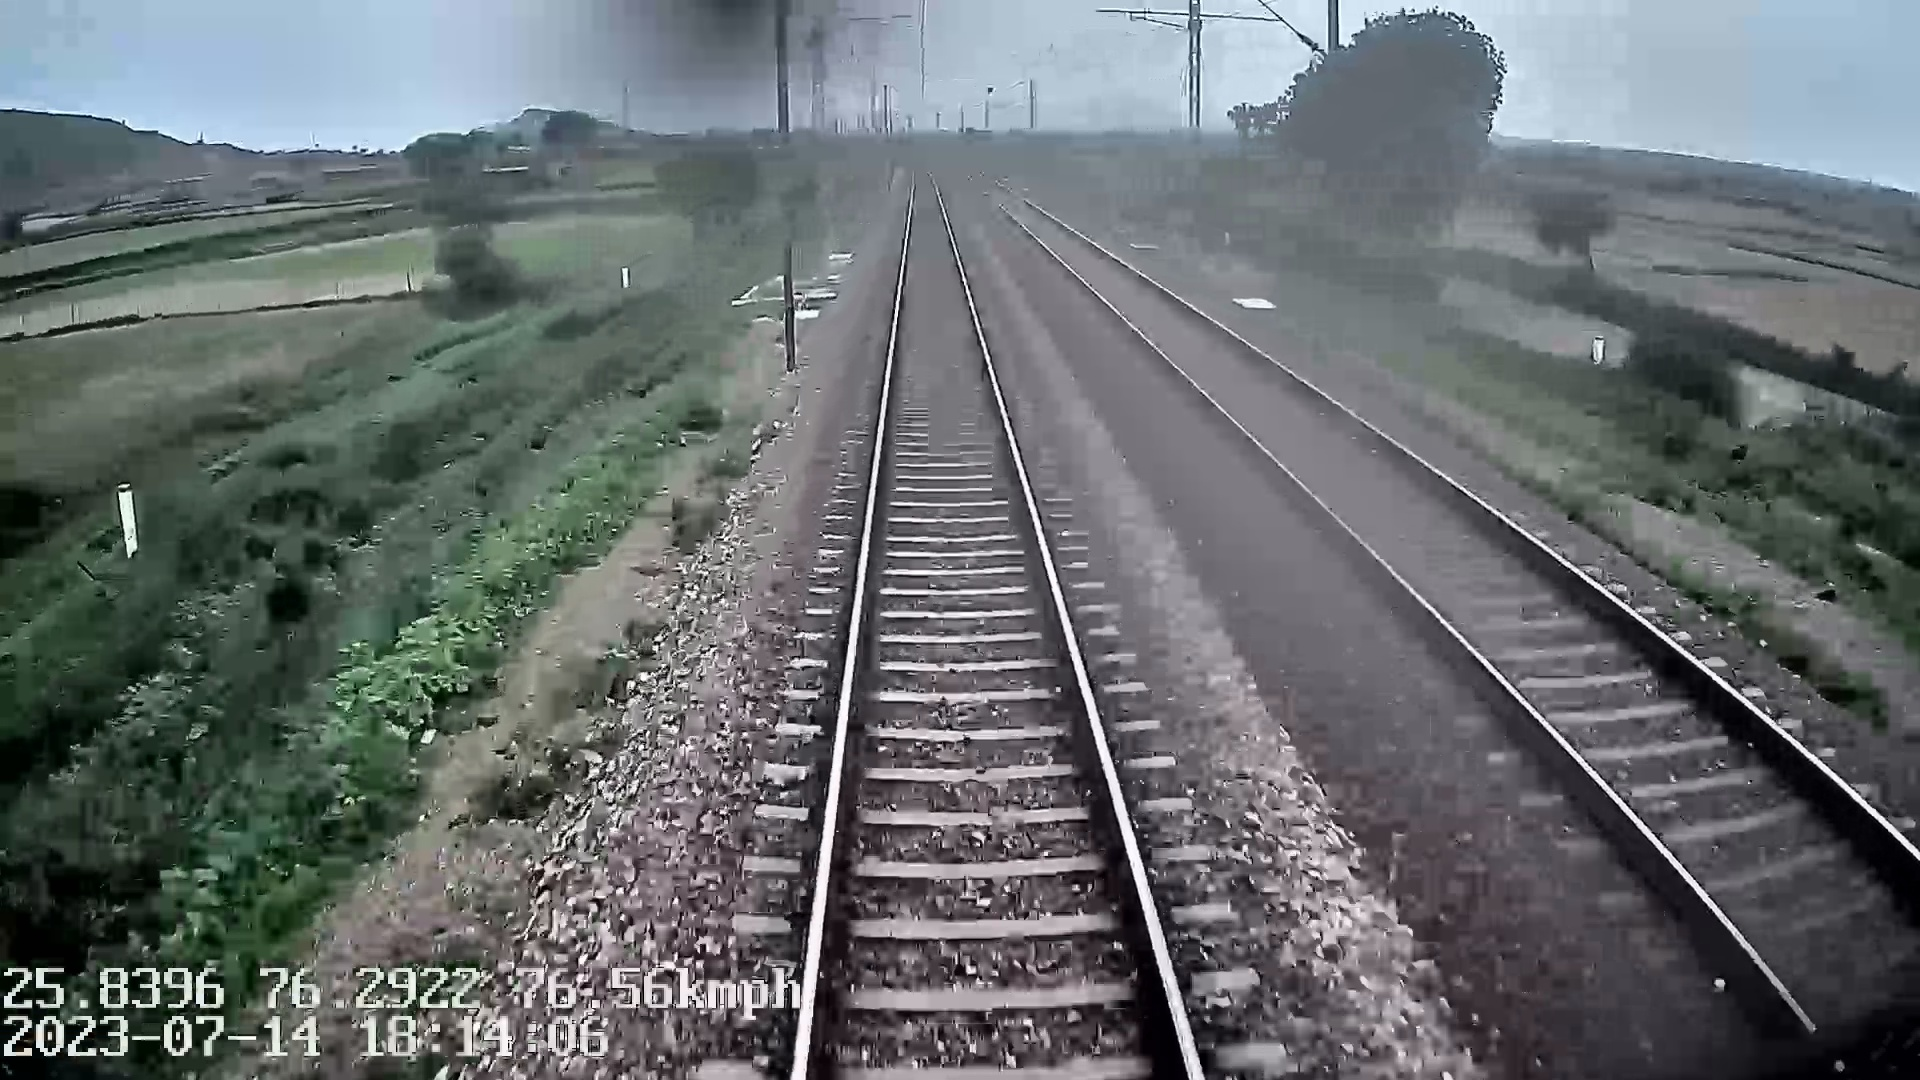track1: (799, 179, 1196, 1067)
track2: (985, 189, 1919, 1029)
